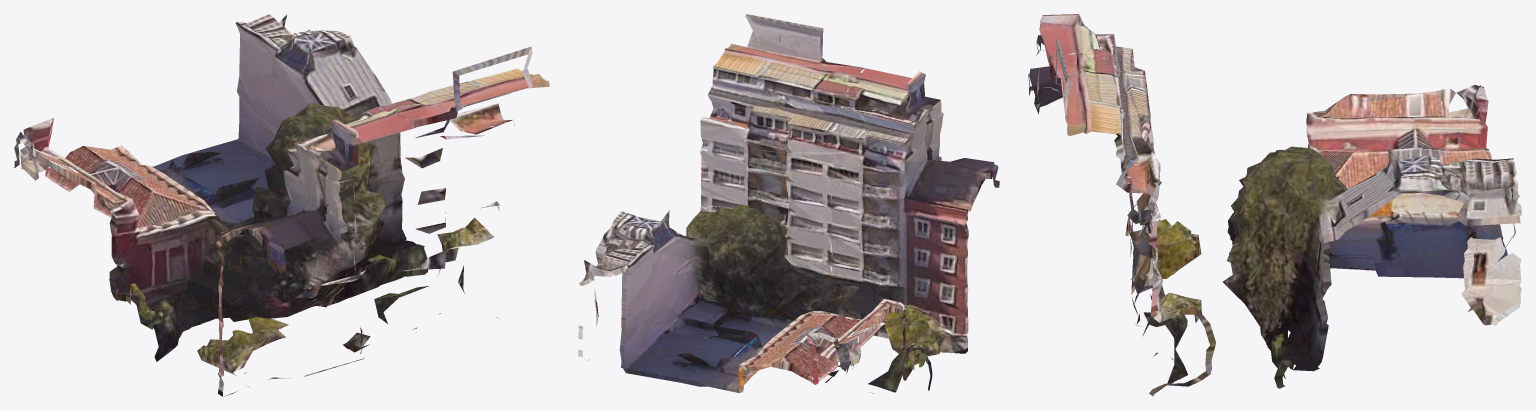
3 renders of one model, left to right at view 1: azimuth 30°, elevation 25°; view 2: azimuth 150°, elevation 25°; view 3: azimuth 270°, elevation 25°, orthographic. The views are drawn at different scales.
Parts seen in each view (by area): view 1: Mesh_0; view 2: Mesh_0; view 3: Mesh_0.
Boxes of the visible parts, box(x1,y1,x2,y2) form: Mesh_0: box(14, 14, 549, 396); Mesh_0: box(578, 14, 999, 393); Mesh_0: box(1028, 14, 1521, 396).
Bounding box in the file's own units: 33.3 × 29.04 × 41.4.
Materials: 2 (2 with a texture image).
